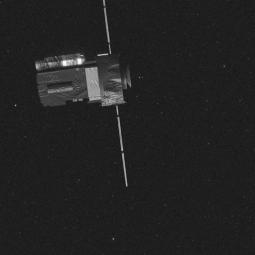soho: (31, 0, 158, 181)
